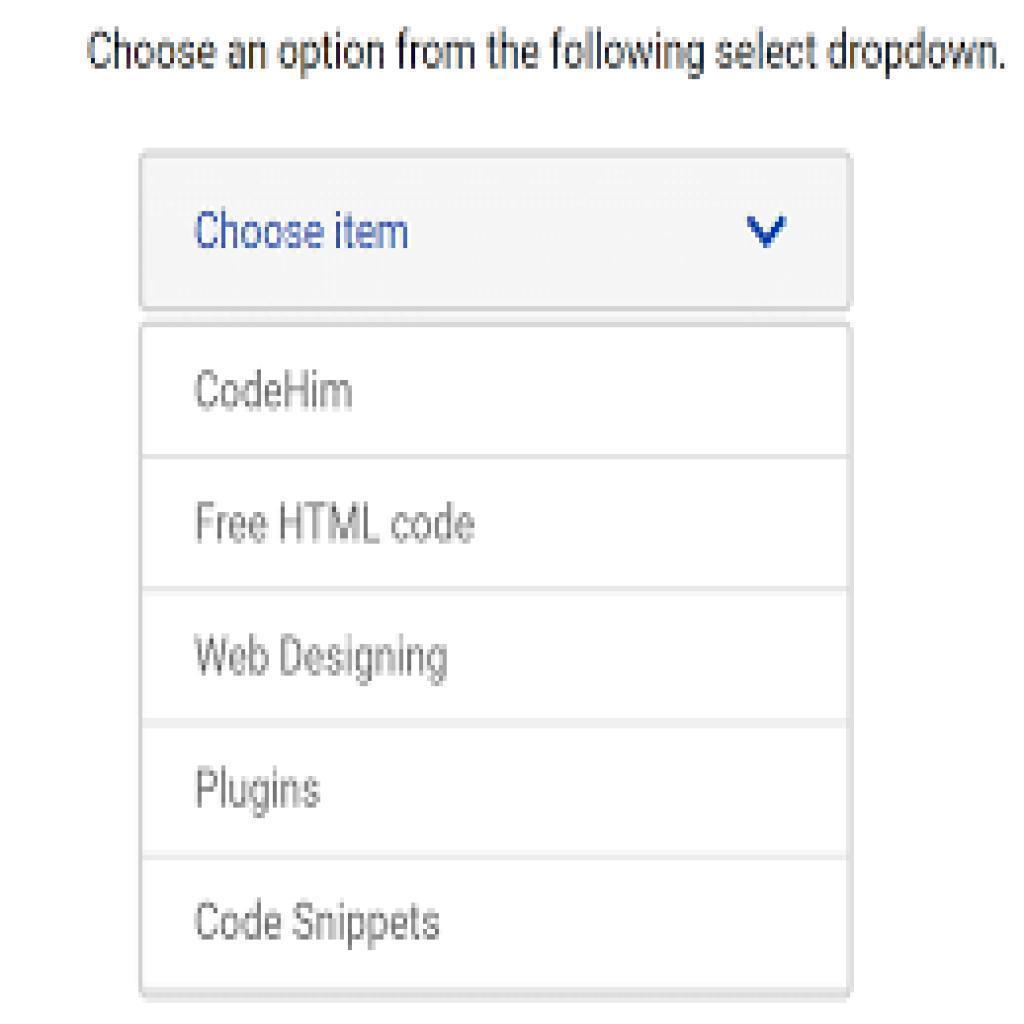dropdown: (137, 150, 853, 313)
